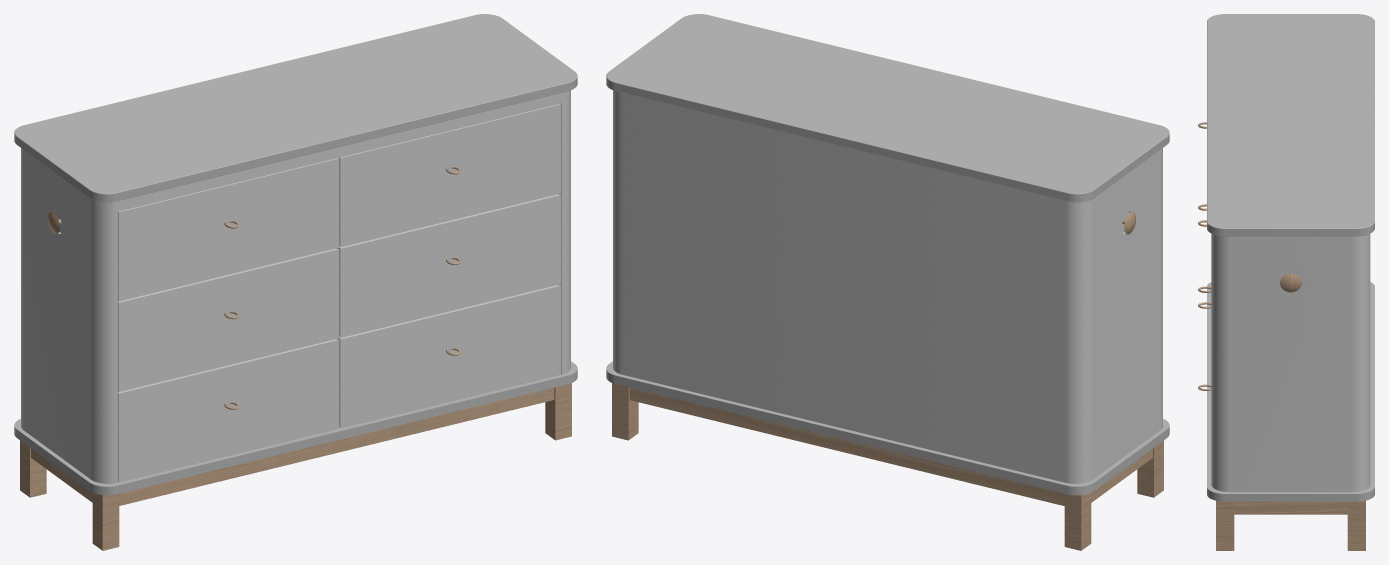
Rendered from kid_s_dresser.gltf.
3 views of the same model, side by side, from view 1: azimuth 30°, elevation 25°; view 2: azimuth 150°, elevation 25°; view 3: azimuth 270°, elevation 25° (orthographic). The views are drawn at different scales.
Parts seen in each view (by area): view 1: Mesh; view 2: Mesh; view 3: Mesh.
Part boxes in pixels (left/top/right/bottom): Mesh: left=14, top=14, right=577, bottom=550; Mesh: left=606, top=14, right=1169, bottom=550; Mesh: left=1198, top=14, right=1374, bottom=550.
Size of the model in its own units: 1.18 by 0.8338 by 0.4079.
1 material, 1 textured.
